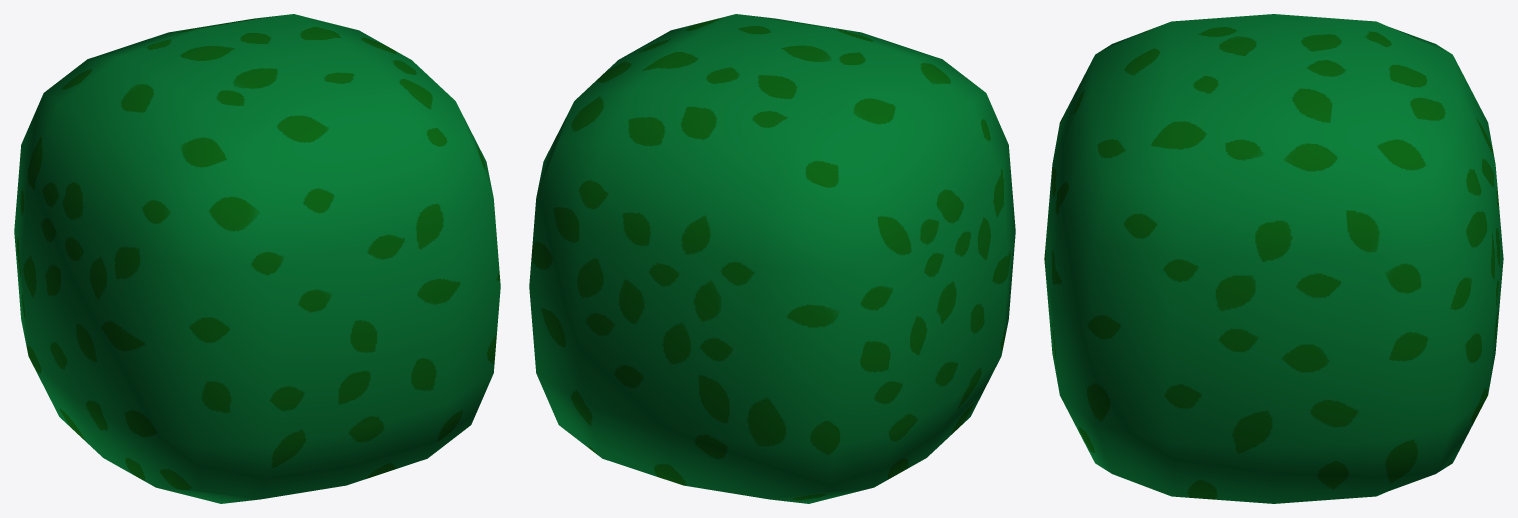
File: leaves.fbx
3 renders of one model, left to right at view 1: azimuth 30°, elevation 25°; view 2: azimuth 150°, elevation 25°; view 3: azimuth 270°, elevation 25°, orthographic. The views are drawn at different scales.
Visible parts, largest first — view 1: Cube; view 2: Cube; view 3: Cube.
Part boxes in pixels (x1,y1,x2,y2): Cube: (14,14,500,503); Cube: (529,14,1015,503); Cube: (1044,14,1503,503).
Bounding box in the file's own units: 424 × 424 × 424.
1 material, 1 textured.
